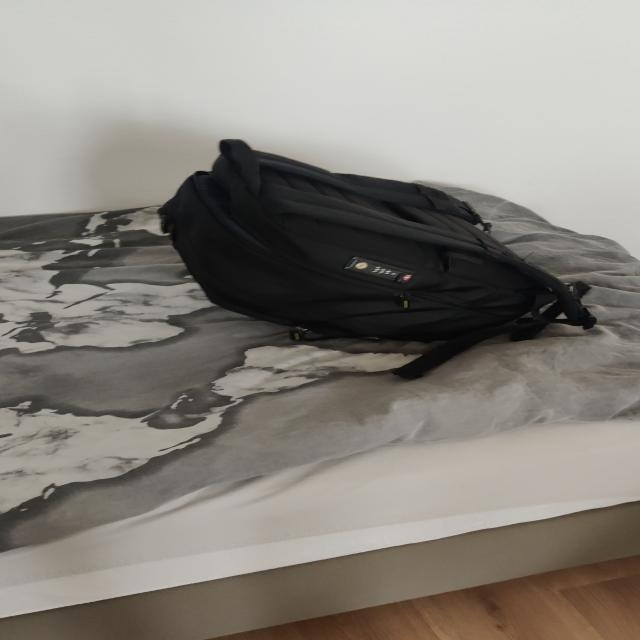backpack: (146, 134, 592, 374)
